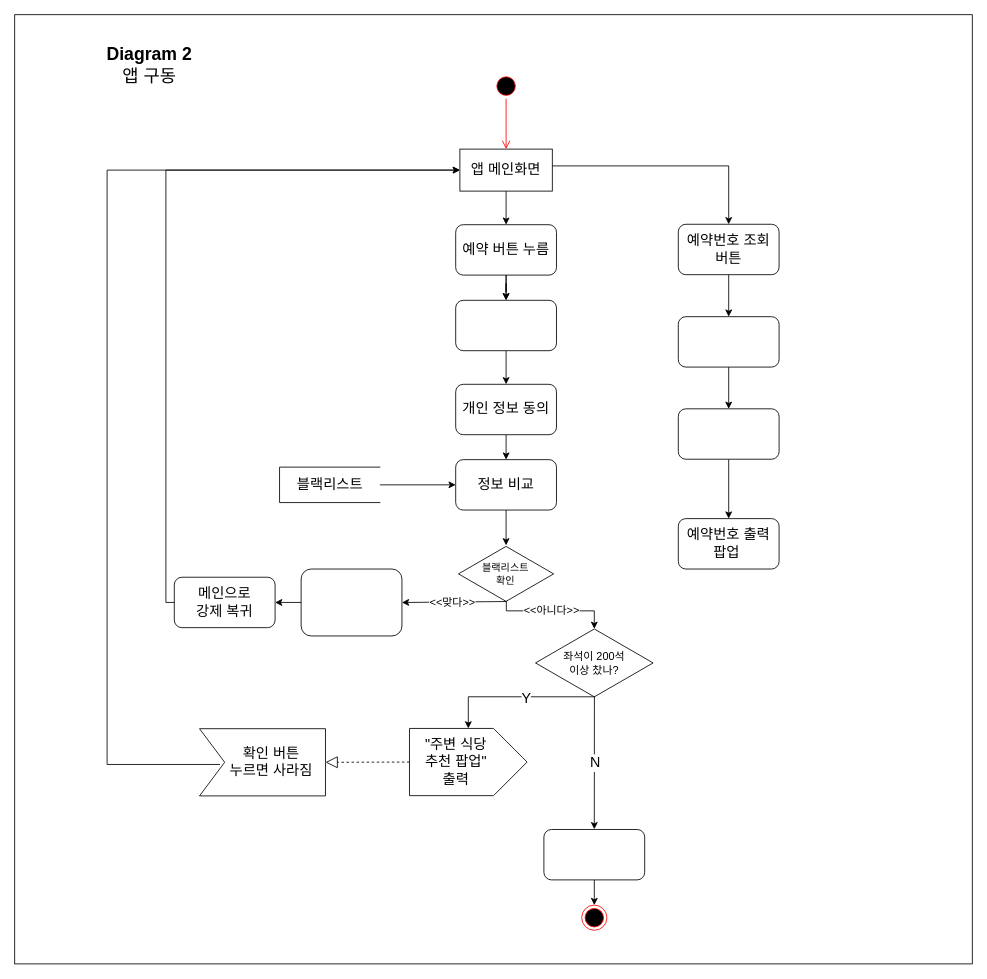
Image size: 987x979. Some labels were removed from this diagram. Here are the shapes that lost their labels. From the top down, the box of each, then its label:
(455, 299, 556, 351): 예약 정보 기입
(677, 316, 779, 367): 예약 시 사용한 전화번호 기입
(677, 408, 779, 459): 전화번호로 예약번호 호출
(300, 568, 402, 636): "예약할 수 없습니다" 출력
(543, 829, 645, 880): 예약 완료 메시지 출력
